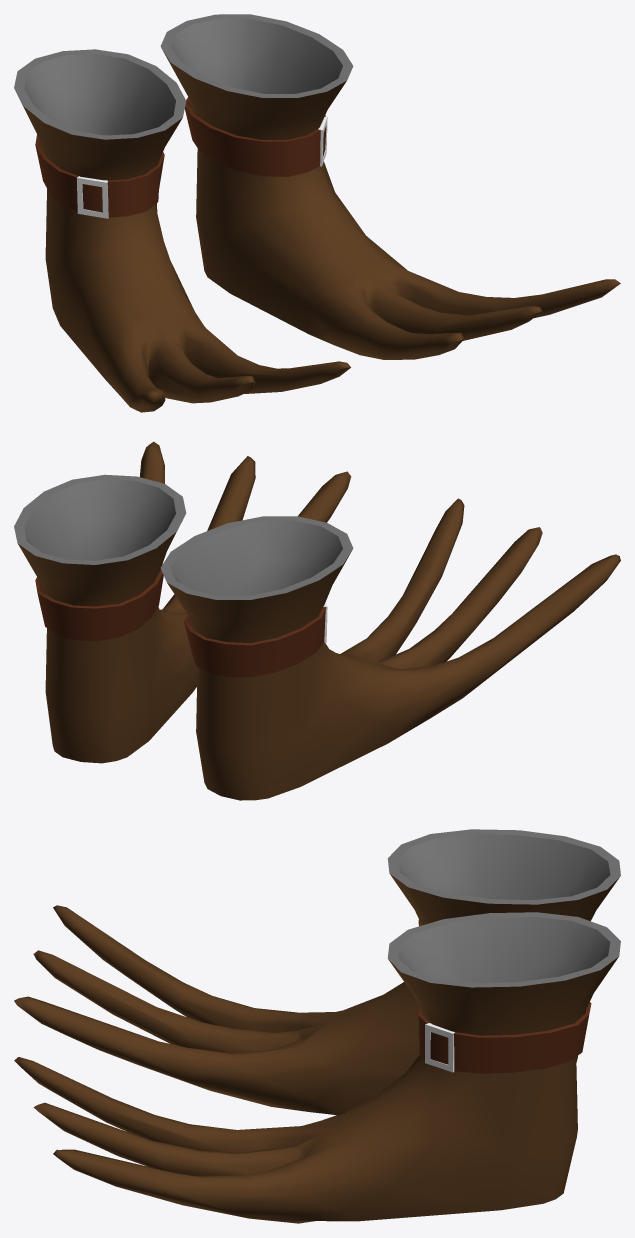
File: ChickenShoes.fbx
The picture shows the model from 3 angles, top to bottom: view 1: azimuth 30°, elevation 25°; view 2: azimuth 150°, elevation 25°; view 3: azimuth 270°, elevation 25°; orthographic projection. The views are drawn at different scales.
Visible parts, largest first — view 1: Shoe|Shoe.002|Dupli|, Shoe.001|Shoe.002|Dupli|, Shoe|Belt|Dupli|1, Shoe.001|Belt|Dupli|1, Shoe.001|Strap|Dupli|2; view 2: Shoe.001|Shoe.002|Dupli|, Shoe|Shoe.002|Dupli|, Shoe.001|Belt|Dupli|1, Shoe|Belt|Dupli|1; view 3: Shoe|Shoe.002|Dupli|, Shoe.001|Shoe.002|Dupli|, Shoe|Belt|Dupli|1, Shoe|Strap|Dupli|2.
Part boxes in pixels (box(x1,y1,x2,y2)): Shoe|Shoe.002|Dupli|: box(160, 14, 620, 359); Shoe.001|Shoe.002|Dupli|: box(14, 49, 350, 412); Shoe|Belt|Dupli|1: box(184, 97, 326, 176); Shoe.001|Belt|Dupli|1: box(35, 134, 164, 217); Shoe.001|Strap|Dupli|2: box(77, 176, 108, 218); Shoe.001|Shoe.002|Dupli|: box(160, 498, 620, 800); Shoe|Shoe.002|Dupli|: box(14, 441, 351, 763); Shoe.001|Belt|Dupli|1: box(183, 607, 326, 677); Shoe|Belt|Dupli|1: box(35, 564, 163, 641); Shoe|Shoe.002|Dupli|: box(14, 912, 620, 1223); Shoe.001|Shoe.002|Dupli|: box(14, 829, 620, 1114); Shoe|Belt|Dupli|1: box(418, 1002, 591, 1073); Shoe|Strap|Dupli|2: box(425, 1023, 454, 1072).
Size of the model in its own units: 723 by 322 by 742.
